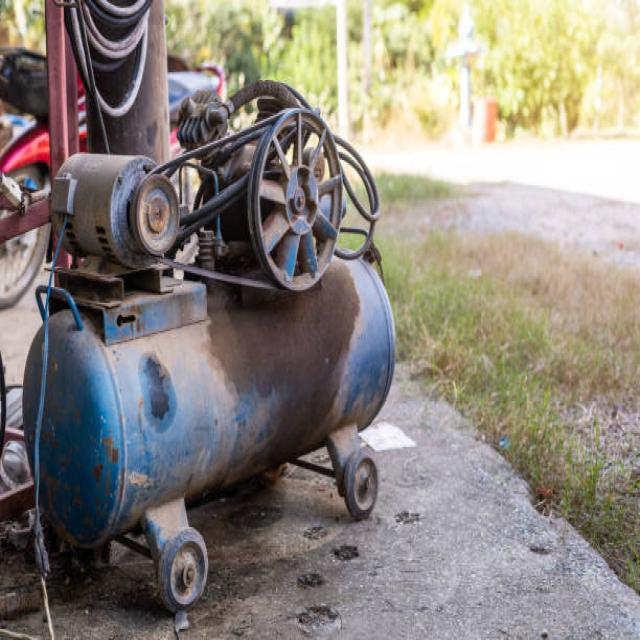compressor: (19, 73, 398, 620)
corrosion detected: (244, 104, 346, 294), (47, 149, 182, 273), (129, 168, 181, 260), (135, 350, 177, 431)
